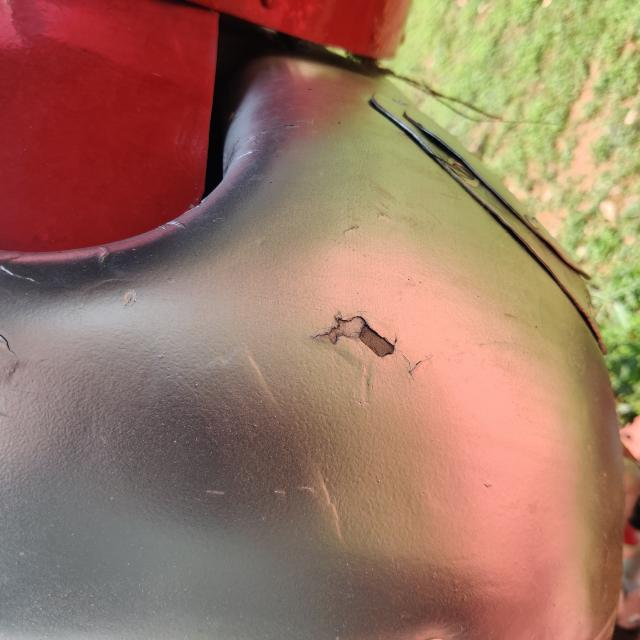paint-off: (274, 310, 343, 406)
